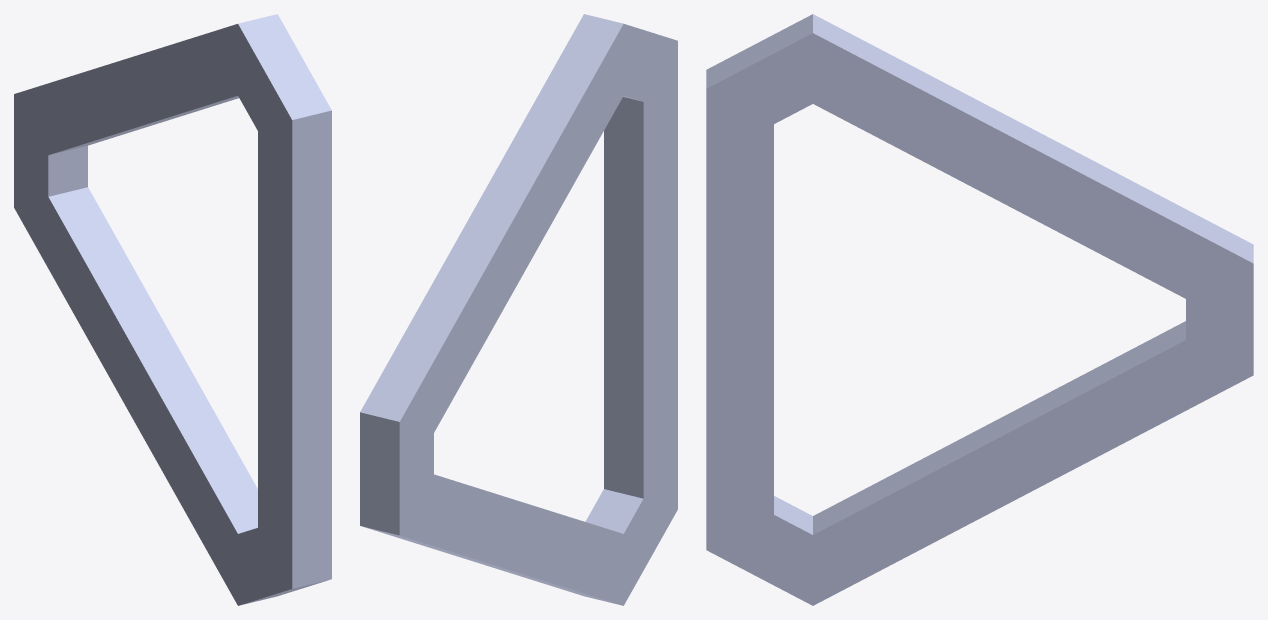
File: Magic_Triangle.FBX
3 renders of one model, left to right at view 1: azimuth 30°, elevation 25°; view 2: azimuth 150°, elevation 25°; view 3: azimuth 270°, elevation 25°, orthographic.
Parts seen in each view (by area): view 1: Boss-Extrude1; view 2: Boss-Extrude1; view 3: Boss-Extrude1.
Part boxes in pixels (x1,y1,x2,y2): Boss-Extrude1: (14,14,331,605); Boss-Extrude1: (360,14,677,605); Boss-Extrude1: (706,14,1253,605).
Size of the model in its own units: 1 by 14.01 by 12.13.
